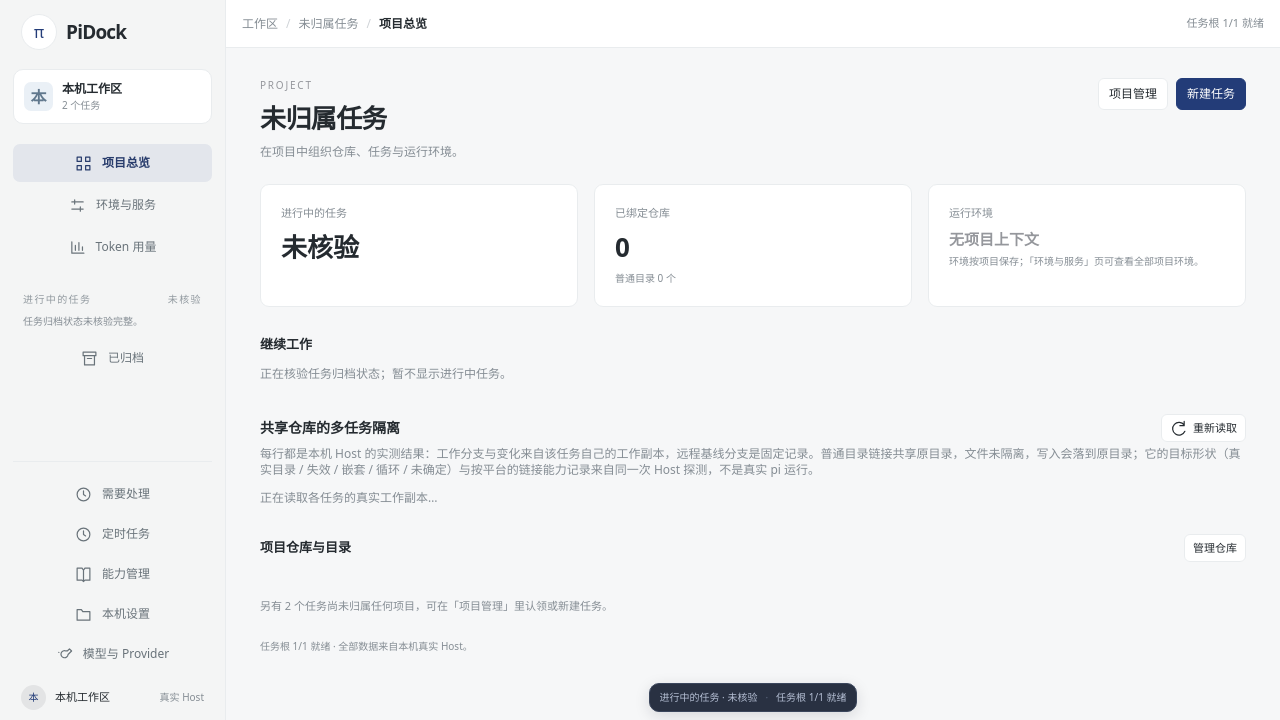
Test: Desktop inventory pending creation recovery › marks only the matching task as creation incomplete and offers both recovery exits on its row
The width and height of the screenshot is (1280, 720).
Click the button "项目管理". click: x=1133, y=94
box: x1=1098 y1=78 x2=1168 y2=110
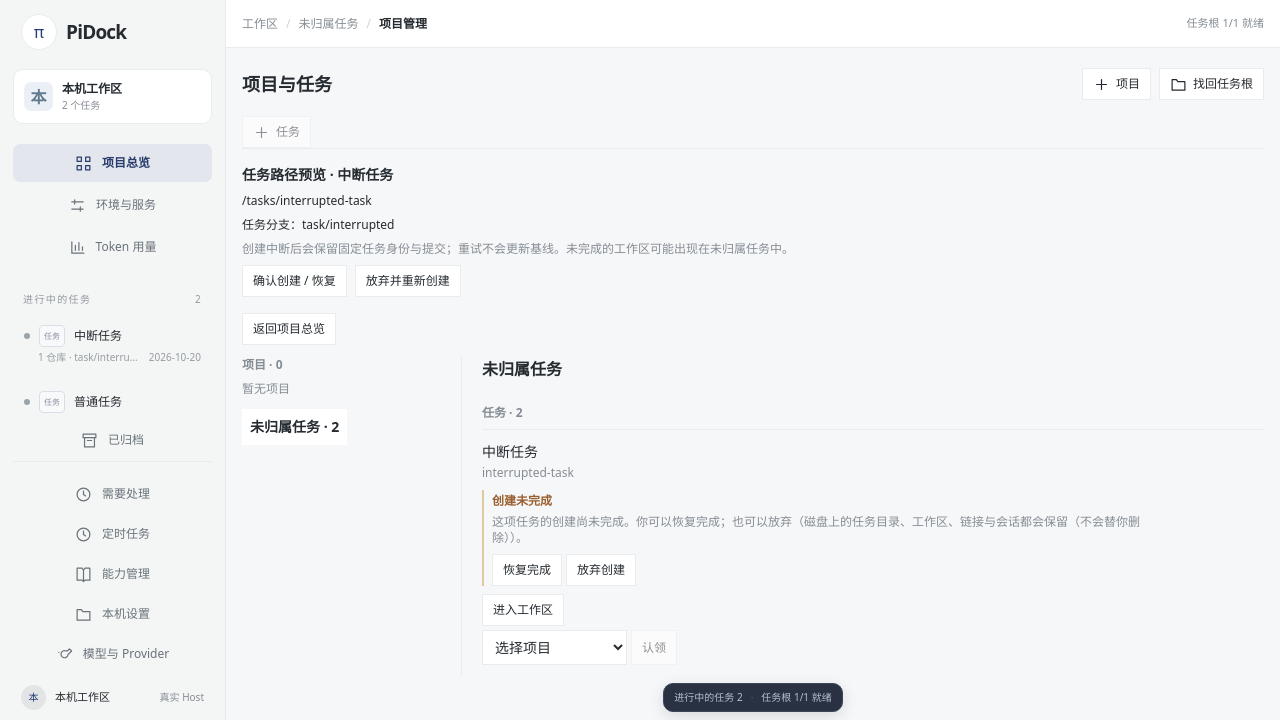
Now the text "创建未完成" is shown, box x1=492 y1=492 x2=552 y2=509
Now the text "这项任务的创建尚未完成。你可以恢复完成；也可以放弃（磁盘上的任务目录、工作区、链接与会话都会保留（不会替你删除））。" is shown, box x1=492 y1=514 x2=1154 y2=546
Now the button "恢复完成" is shown, box x1=492 y1=554 x2=562 y2=586
